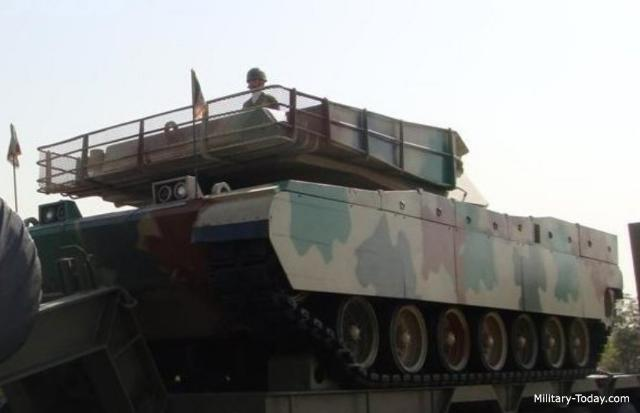other: (244, 63, 274, 107)
tank: (43, 171, 617, 376)
